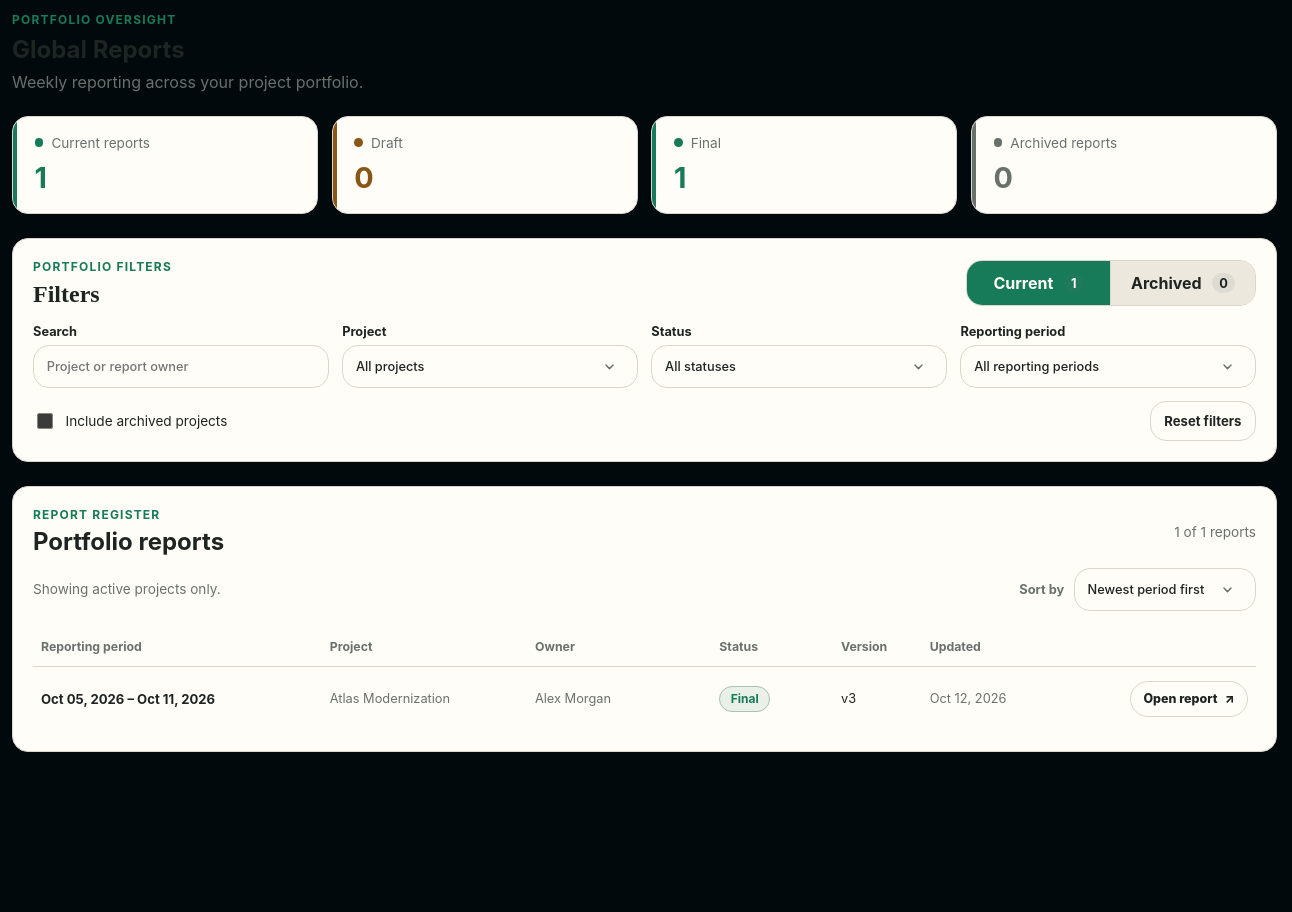
Test case: GlobalReportsPage › shows a lifecycle-specific empty state instead of a misleading filter error
Check: the heading "Global Reports" is shown, box [12,35,185,64]
Click the button "Archived 0" at [1183, 283], box [1111,261,1255,305]
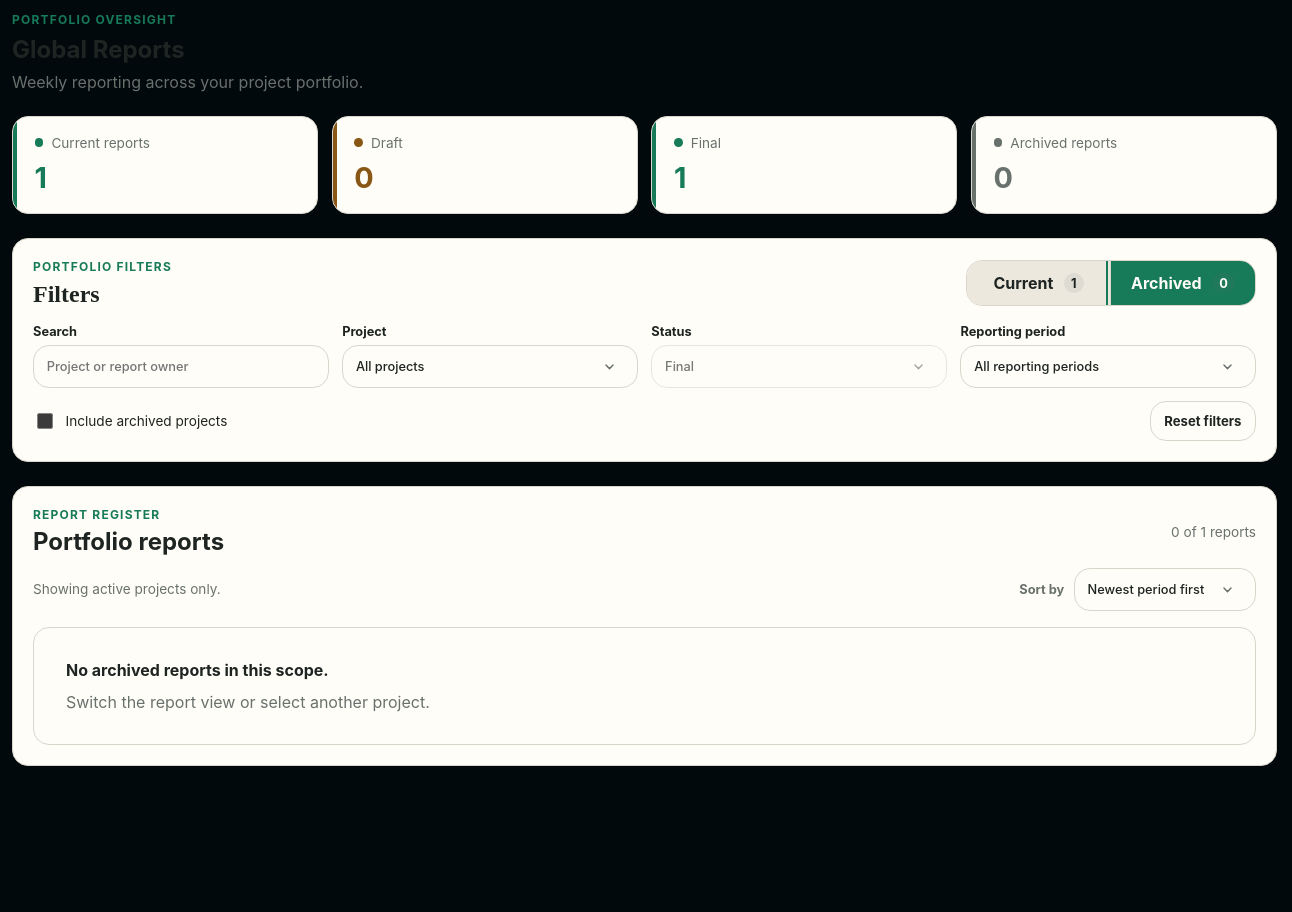
Check: the text "No archived reports in this scope." is shown, box [66,660,329,680]
